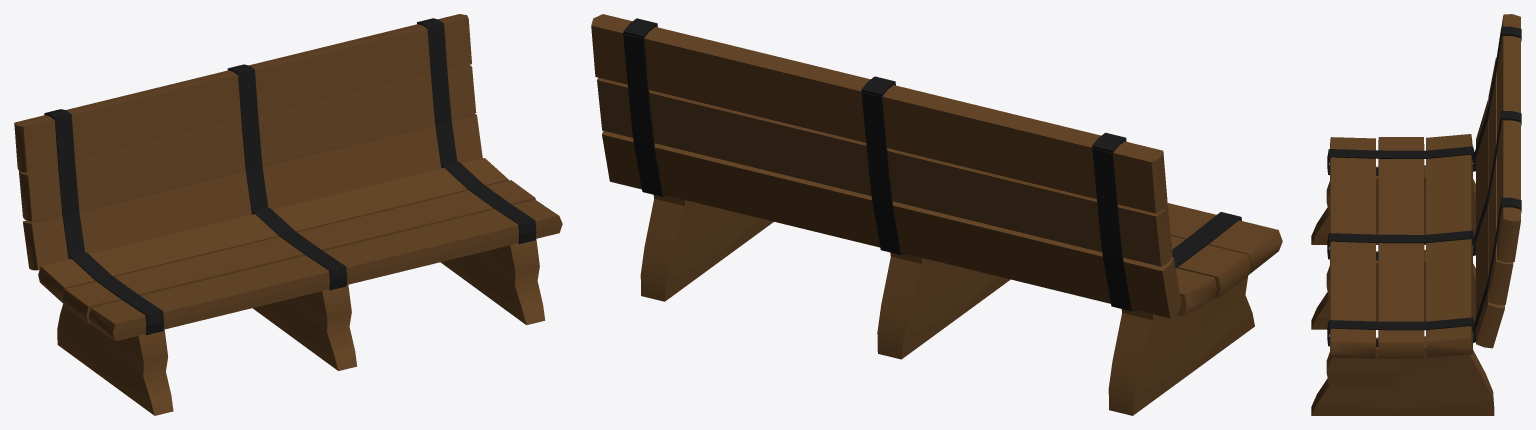
Rendered from bench_with_back_edit.fbx.
The picture shows the model from 3 angles, left to right: view 1: azimuth 30°, elevation 25°; view 2: azimuth 150°, elevation 25°; view 3: azimuth 270°, elevation 25°; orthographic projection. The views are drawn at different scales.
Visible parts, largest first — view 1: Bench; view 2: Bench; view 3: Bench.
Part boxes in pixels (x1,y1,x2,y2): Bench: (14, 14, 562, 415); Bench: (591, 14, 1282, 415); Bench: (1311, 14, 1521, 415).
Bounding box in the file's own units: 316 × 149 × 135.
